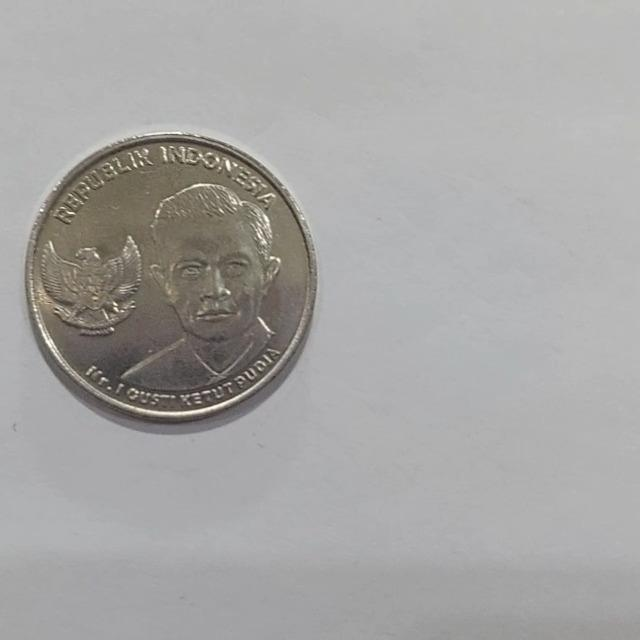Rp100: (24, 129, 319, 425), (112, 179, 285, 399)
